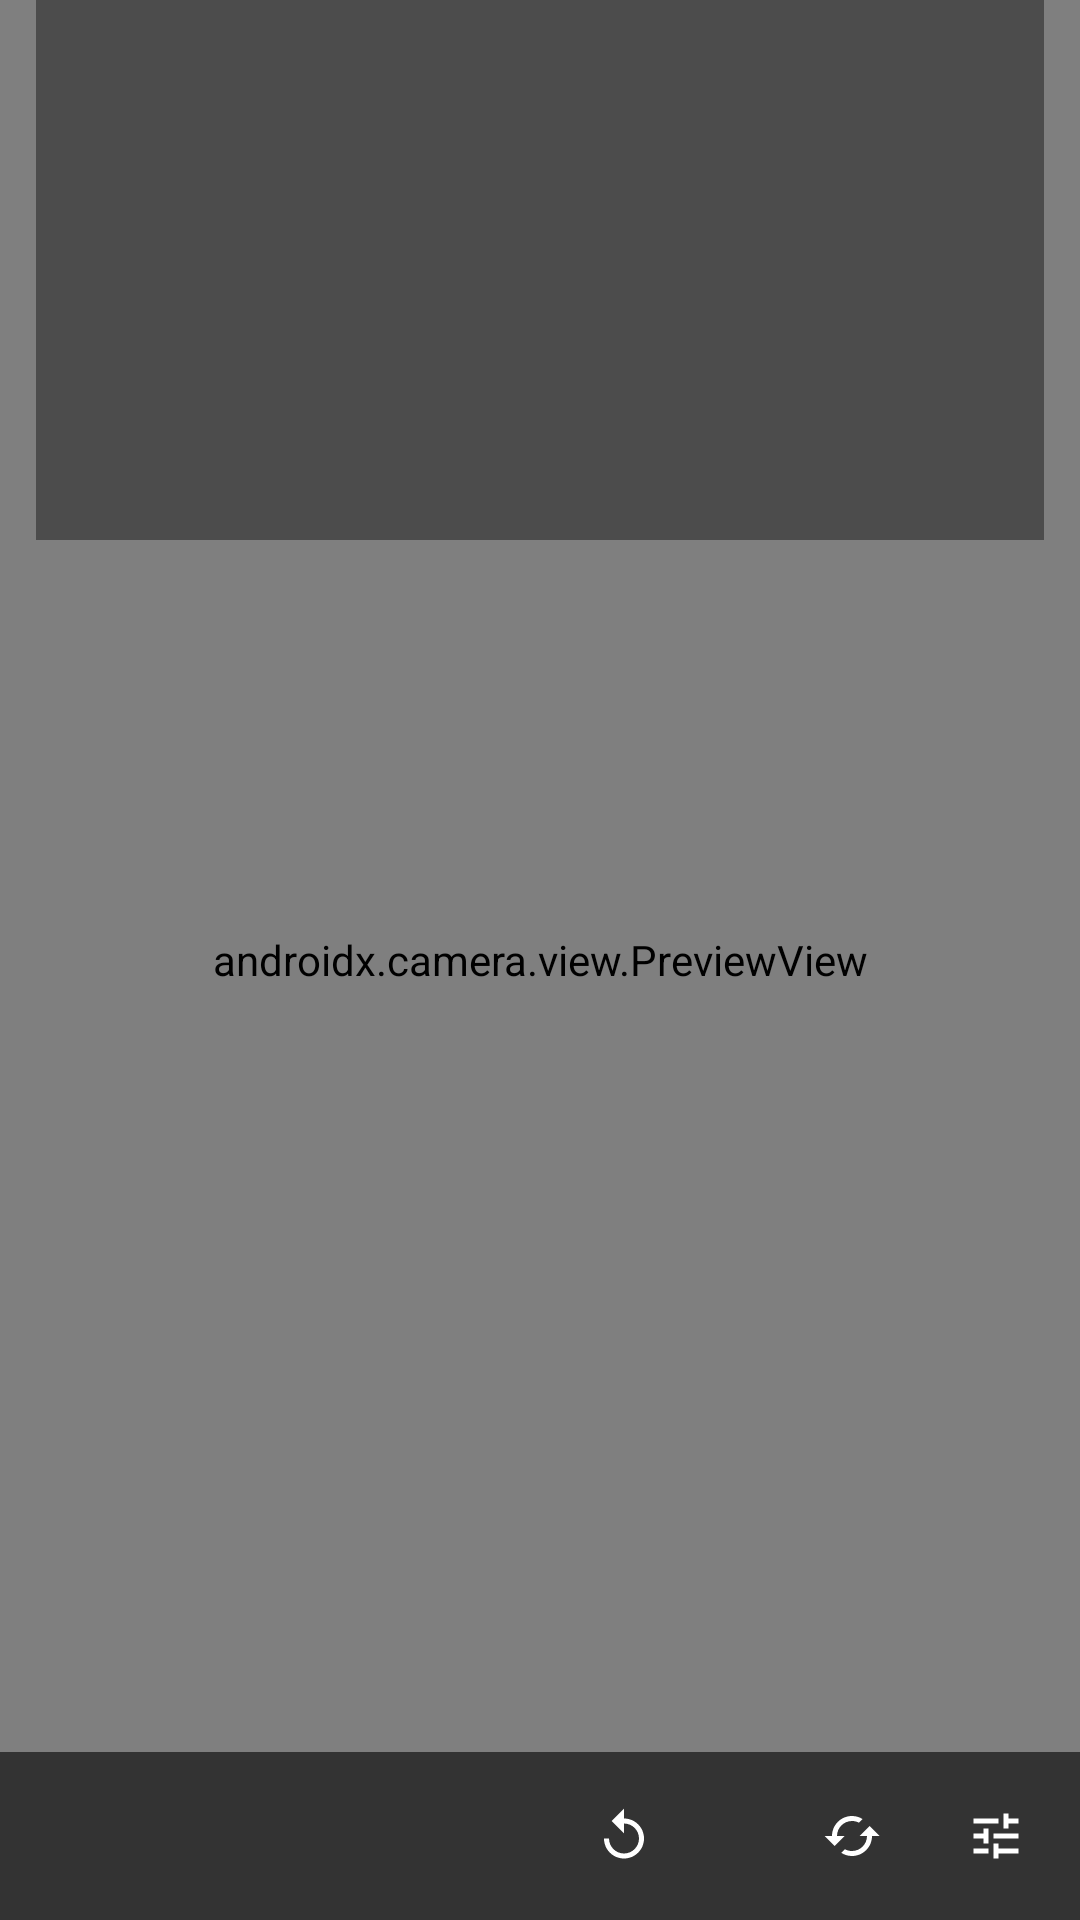

Screen size 1080*1920. Icon name, then its center in pixels as (x=x, y=y):
Configurações: (x=996, y=1836)
Trocar câmera: (x=852, y=1836)
Voltar ao início: (x=624, y=1834)
